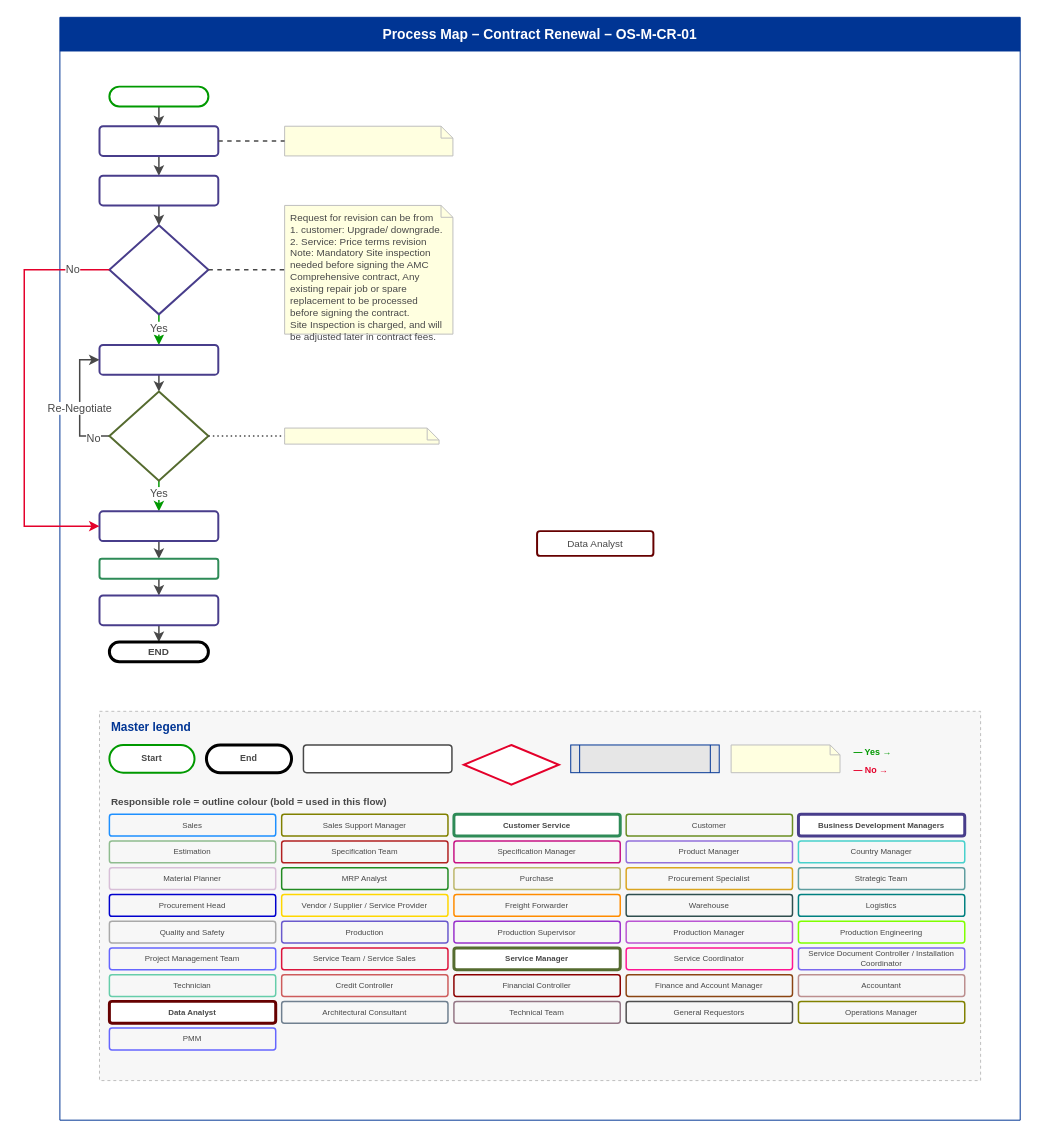
Some shapes in this 1039 by 1138 pixel diagram are drawn without their labels. The shapes that lost their labels are listed below. From the top down, each one's centre as x and y in pixels, then its label:
At point 158,96: "AMC Renewal".
At point 158,140: "Check registry for contract Expiry".
At point 368,140: "60 days in advance. KSA: 90 days in advance.".
At point 158,190: "Send Renew agreement to Customer".
At point 158,269: "Contract Revision/ Change ?".
At point 158,359: "Negotiate price and payment term if needed".
At point 158,435: "Approved ?".
At point 361,435: "KSA: Approved by DVP".
At point 158,526: "Send final agreement to customer".
At point 158,568: "New AMC Approved".
At point 158,610: "Document the Contracts, Update the registry".
At point 377,758: "Activity (outline = role)".
At point 510,764: "Decision".
At point 644,758: "Linked process (Ref ID)".
At point 785,758: "Note / checklist".
